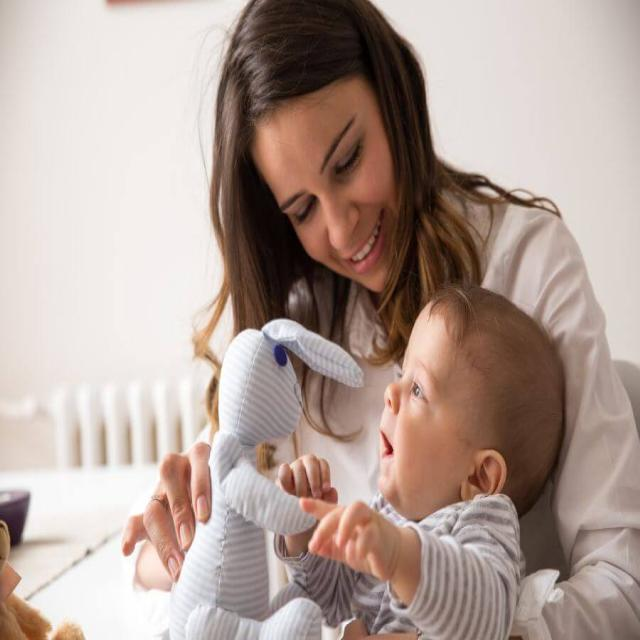soft-toy: (170, 320, 361, 640)
